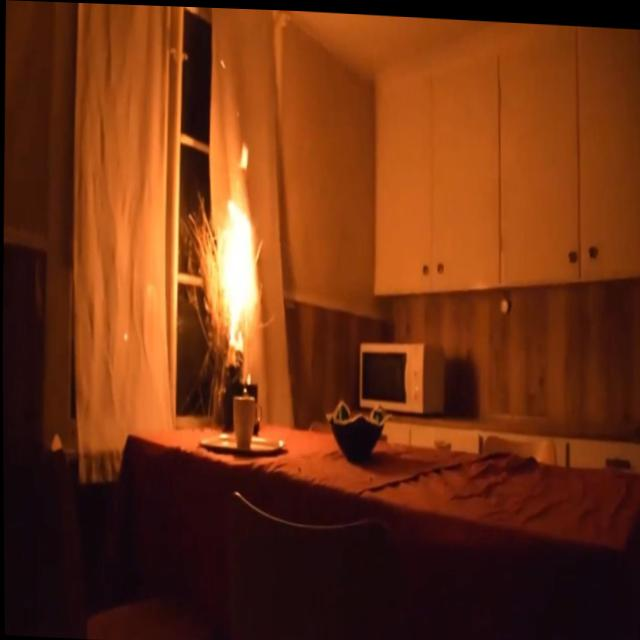fire: (209, 187, 268, 356)
